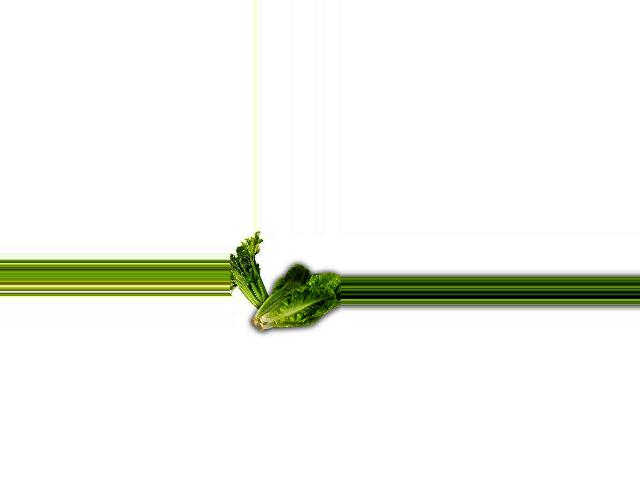lettuce: (247, 257, 341, 327)
